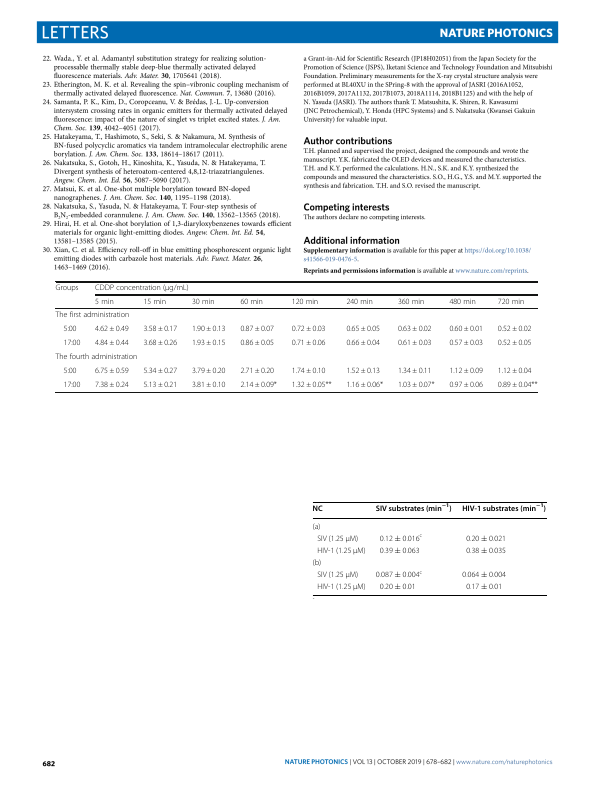borderless: (54, 280, 538, 392), (311, 500, 547, 595)
cell: (94, 284, 190, 293), (461, 503, 547, 513), (55, 352, 138, 362), (375, 503, 453, 513), (55, 310, 130, 320), (375, 569, 423, 580), (316, 546, 367, 556), (379, 533, 423, 544), (316, 583, 367, 592), (316, 534, 359, 544), (465, 534, 507, 544), (379, 546, 421, 556), (465, 546, 507, 556), (461, 571, 507, 580), (291, 380, 332, 390), (497, 380, 538, 390), (239, 380, 278, 390), (345, 380, 384, 390), (316, 571, 359, 580), (397, 380, 435, 390), (94, 324, 130, 334), (142, 324, 178, 334), (239, 324, 275, 334), (345, 324, 381, 334), (448, 324, 484, 334), (94, 338, 130, 348), (142, 338, 178, 348), (239, 338, 275, 348), (345, 338, 381, 348), (448, 338, 484, 348), (94, 366, 130, 376), (142, 366, 178, 376), (239, 366, 275, 376), (345, 366, 381, 376), (448, 366, 484, 376), (94, 380, 130, 390), (142, 380, 178, 390), (448, 380, 484, 390), (191, 324, 226, 334), (291, 324, 326, 334), (397, 324, 432, 334), (497, 324, 532, 334), (191, 338, 226, 348), (291, 338, 326, 348), (397, 338, 432, 348), (497, 338, 532, 348), (191, 366, 226, 376), (291, 366, 326, 376), (397, 366, 432, 376), (497, 366, 532, 376), (191, 380, 226, 390), (379, 583, 417, 592), (465, 583, 503, 592), (345, 297, 374, 306), (448, 297, 477, 306), (291, 297, 319, 306), (397, 297, 425, 306), (497, 297, 525, 306), (142, 297, 167, 306), (239, 297, 264, 306), (55, 284, 79, 293), (191, 297, 215, 306), (62, 338, 81, 348), (62, 380, 81, 390), (94, 297, 115, 306), (62, 324, 77, 334), (62, 366, 77, 376), (312, 504, 324, 513), (312, 522, 321, 532), (312, 559, 322, 568)
